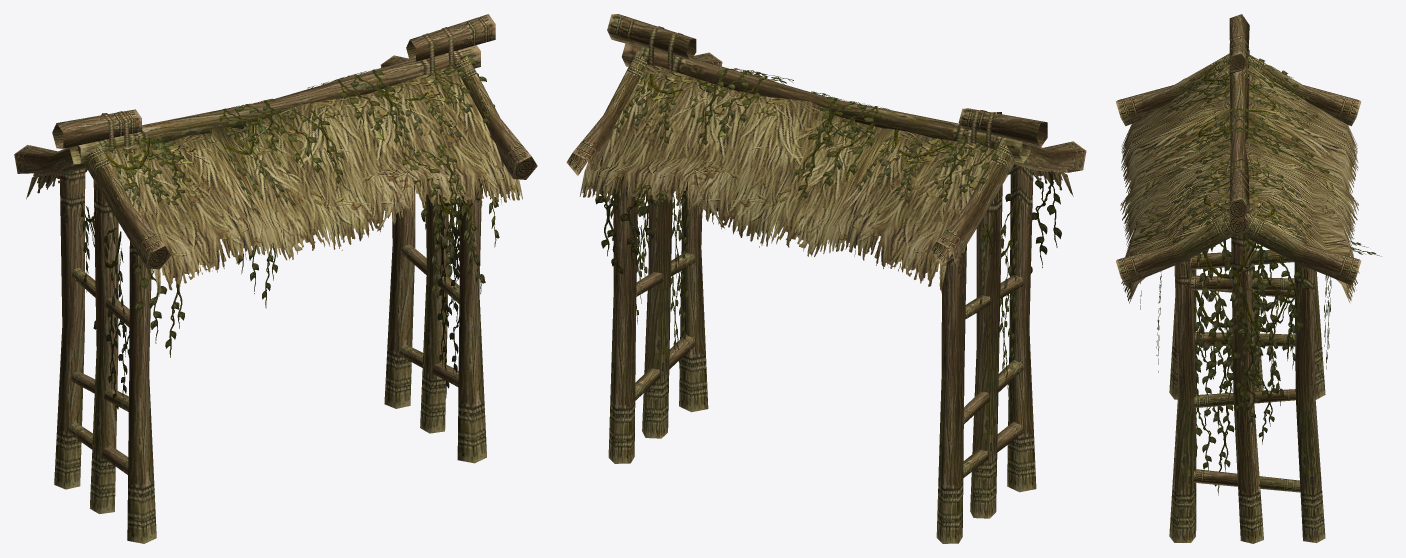
The model's file is Dingqingchuan_wujian_22.FBX.
3 renders of one model, left to right at view 1: azimuth 30°, elevation 25°; view 2: azimuth 150°, elevation 25°; view 3: azimuth 270°, elevation 25°, orthographic. The views are drawn at different scales.
Parts seen in each view (by area): view 1: Cylinder01, Plane01, Plane10; view 2: Cylinder01, Plane01, Plane10; view 3: Cylinder01, Plane01, Plane10.
Boxes of the visible parts, box(x1,y1,x2,y2) form: Cylinder01: box(14, 14, 537, 543); Plane01: box(26, 68, 522, 296); Plane10: box(80, 59, 499, 416); Cylinder01: box(566, 14, 1086, 543); Plane01: box(579, 64, 1073, 293); Plane10: box(595, 61, 1061, 396); Cylinder01: box(1116, 14, 1361, 543); Plane01: box(1120, 62, 1359, 303); Plane10: box(1125, 55, 1381, 495).
Bounding box in the file's own units: 6.42 × 5.77 × 4.
